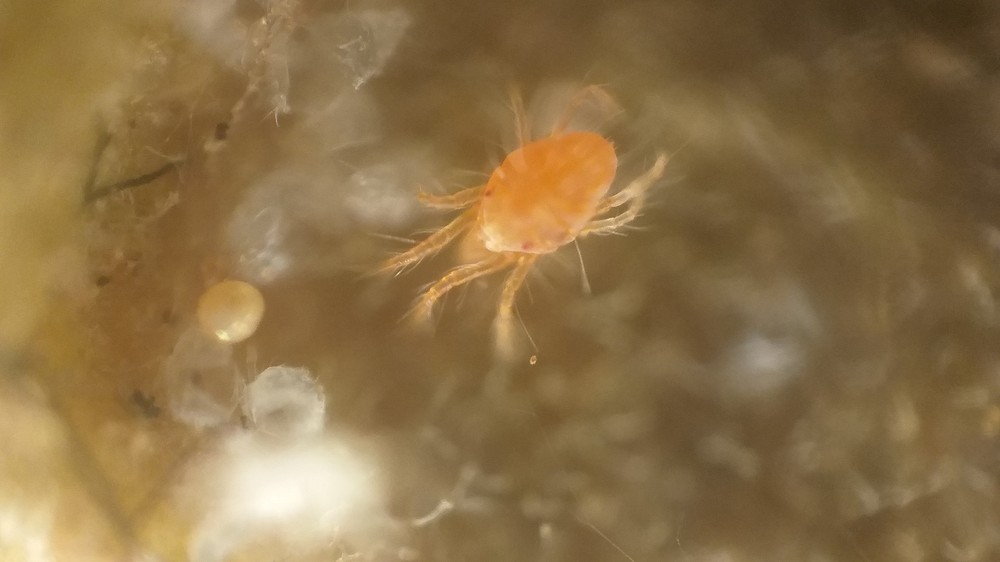Aracnido Rojo: (356, 62, 694, 378)
